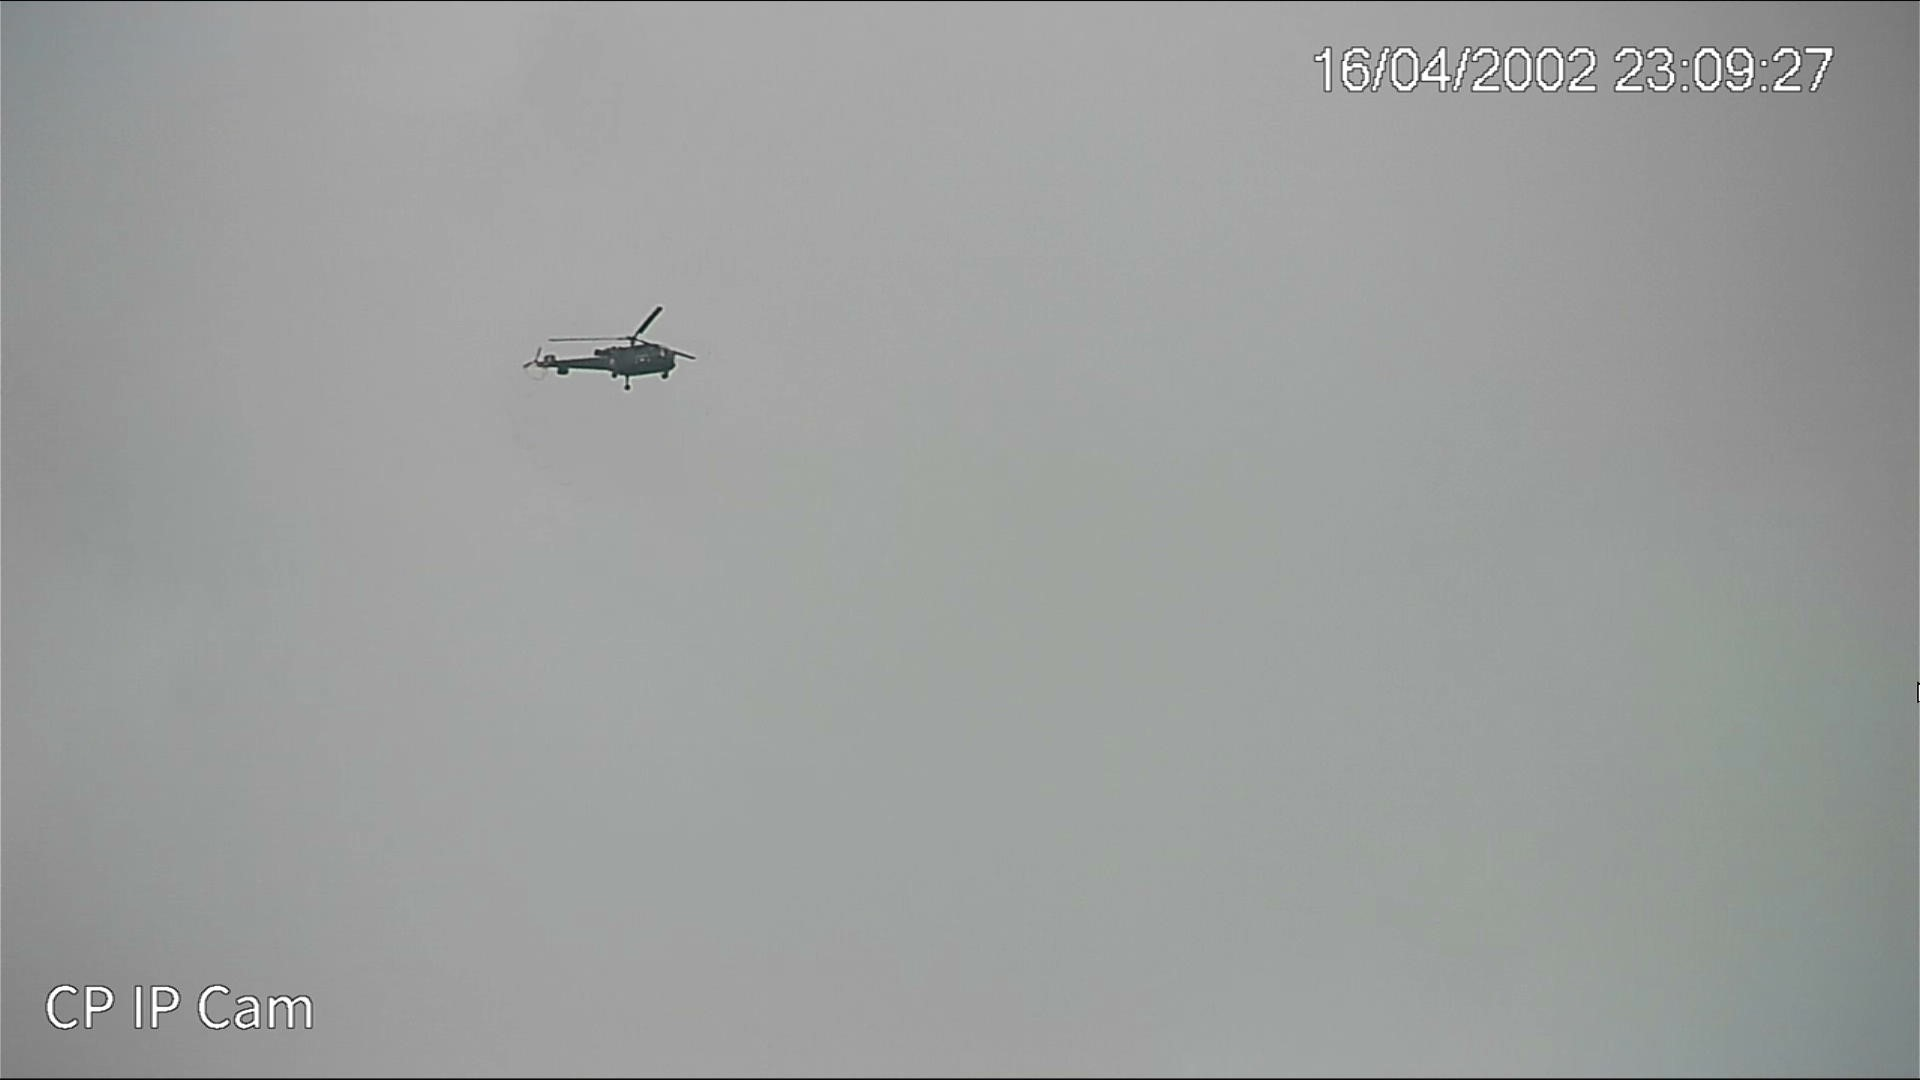SU_30: (527, 324, 679, 389)
